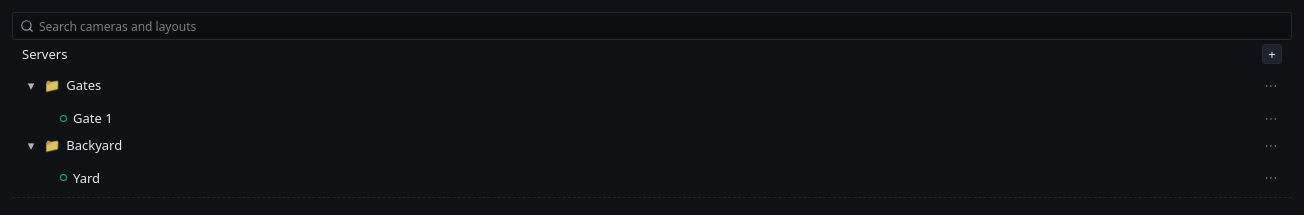
Test: CameraTree › the ancestor folder appears OPEN even when it is in the closed list
The image size is (1304, 215).
closes the folder by clicking the handle (without a filter, everything is visible)
Click the button named "Collapse Gates".
click(31, 85)  # box [28,76,34,94]
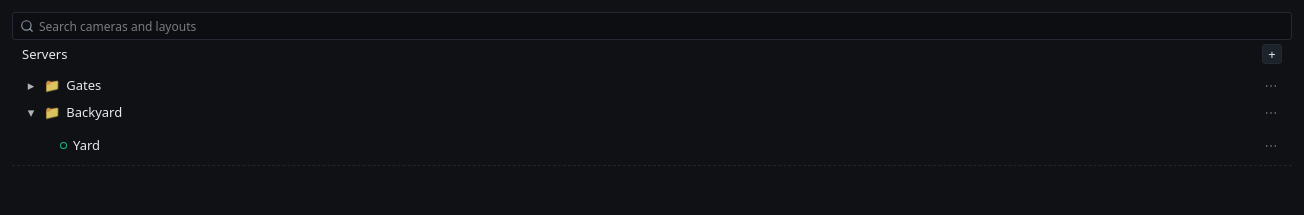
Now the button named "Expand Gates" is collapsed, box [28,76,34,94]
types the filter: the match lives INSIDE the closed folder
Type "Gate" into the field labelled "Search cameras and layouts".
click(652, 26); type("Gate")  # box [12,12,1292,40]
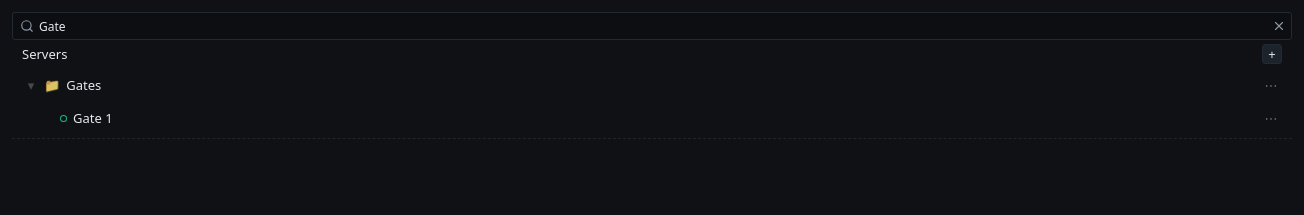
Now the button named "Collapse Gates" is expanded, box [28,76,34,94]
Now the text "Gate 1" is shown, box [73,109,113,127]
